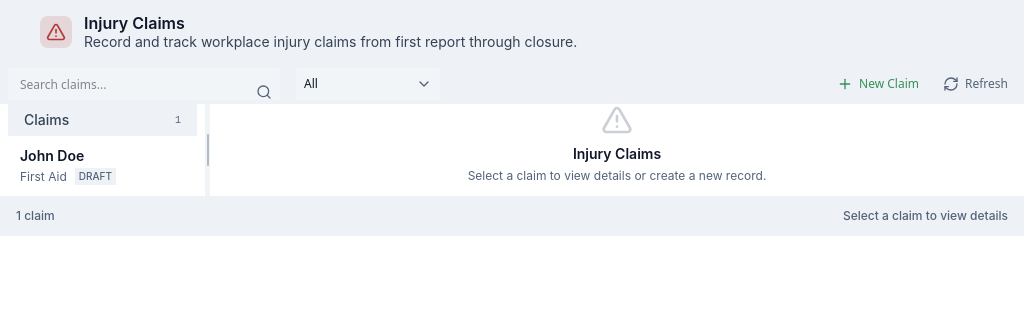
SafetyInjuryClaimsPage - Open Claim › shows success message after opening a claim
Click the text "John Doe".
click(52, 156)  # box x1=20 y1=147 x2=84 y2=164
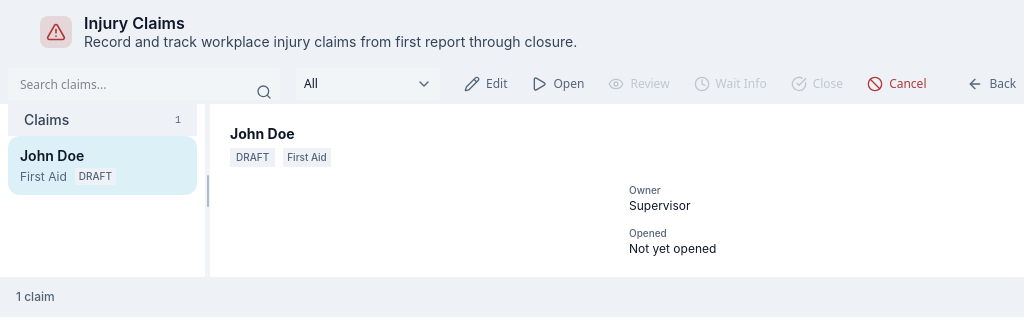
Click the button "Open".
click(558, 84)  # box x1=524 y1=68 x2=592 y2=100
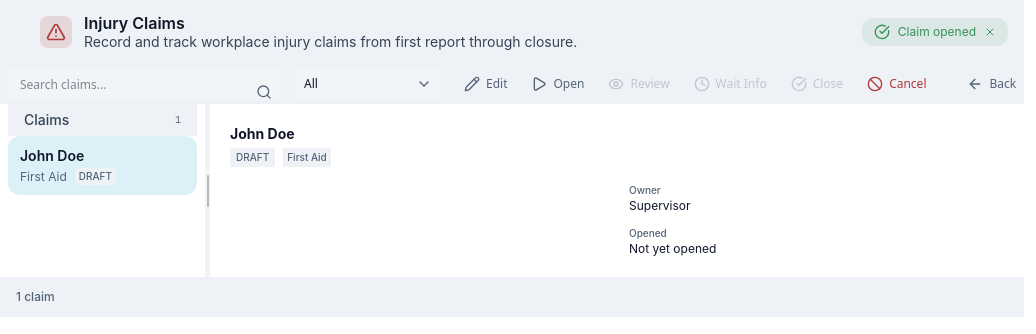
expect the text "Claim opened" is shown: met, box x1=898 y1=24 x2=976 y2=40
